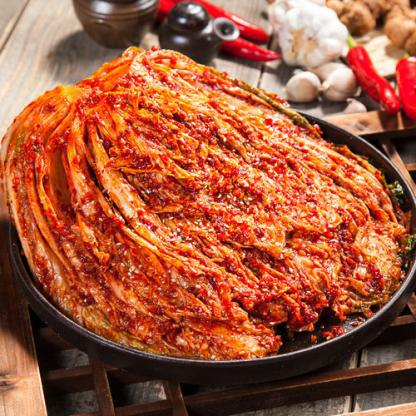kimchi: (6, 55, 411, 346)
